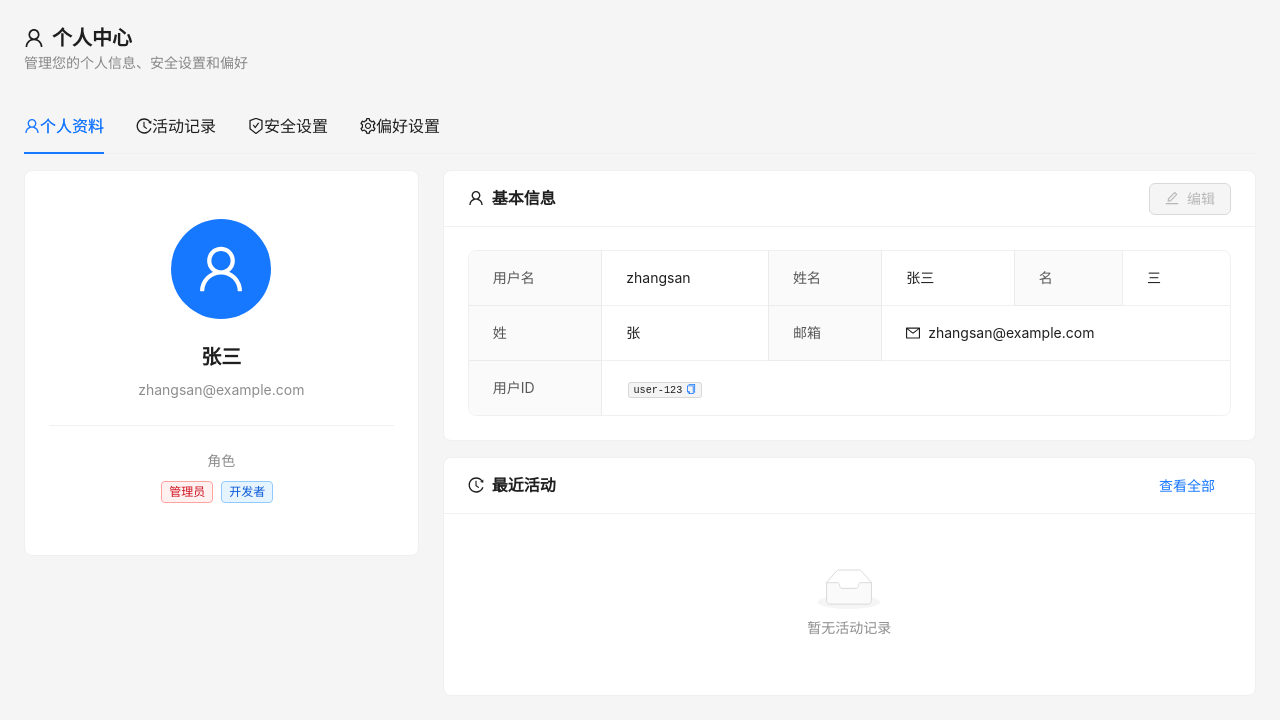
Test: ProfilePage › 偏好设置 Tab › 应该显示通知设置卡片
Click the tab "偏好设置" at (400, 126), box [360,114,440,138]
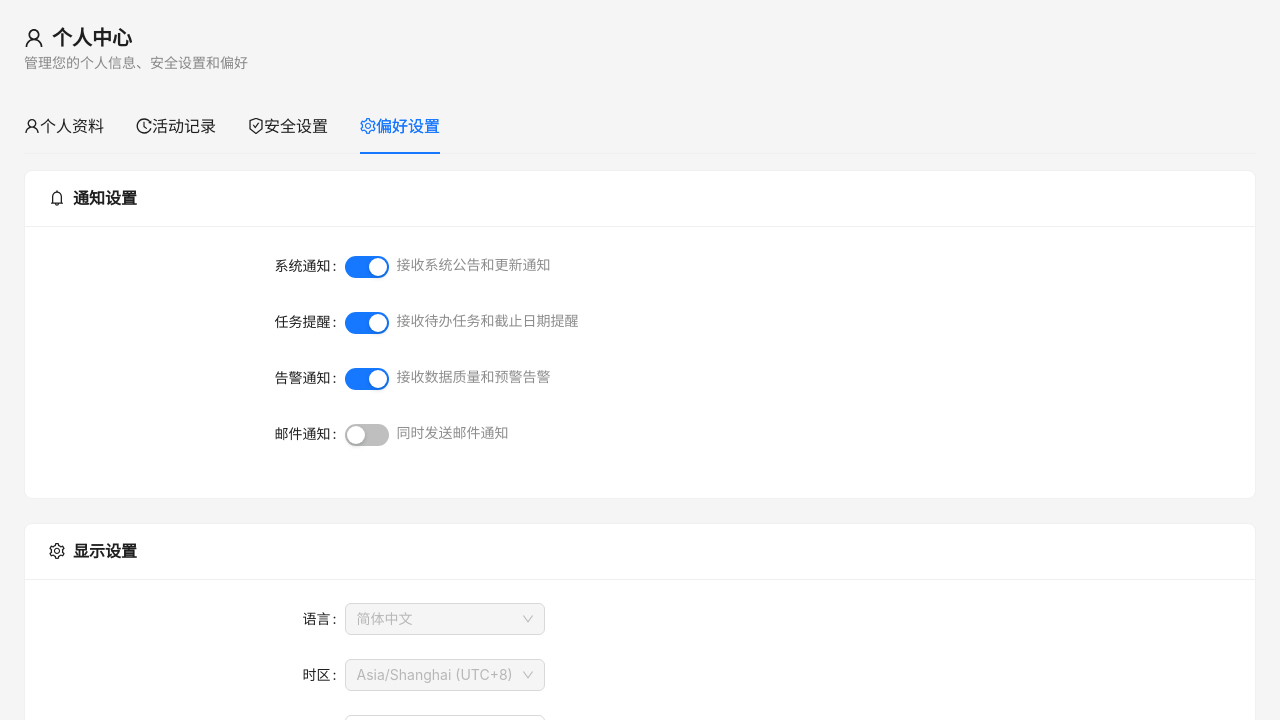
Result: the text "通知设置" is shown at [49,188,137,208]
